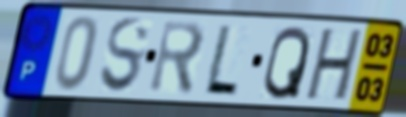0: (52, 13, 101, 94)
H: (302, 26, 367, 104)
L: (201, 22, 242, 99)
Q: (261, 23, 313, 102)
R: (146, 18, 207, 98)
S: (98, 15, 153, 97)
